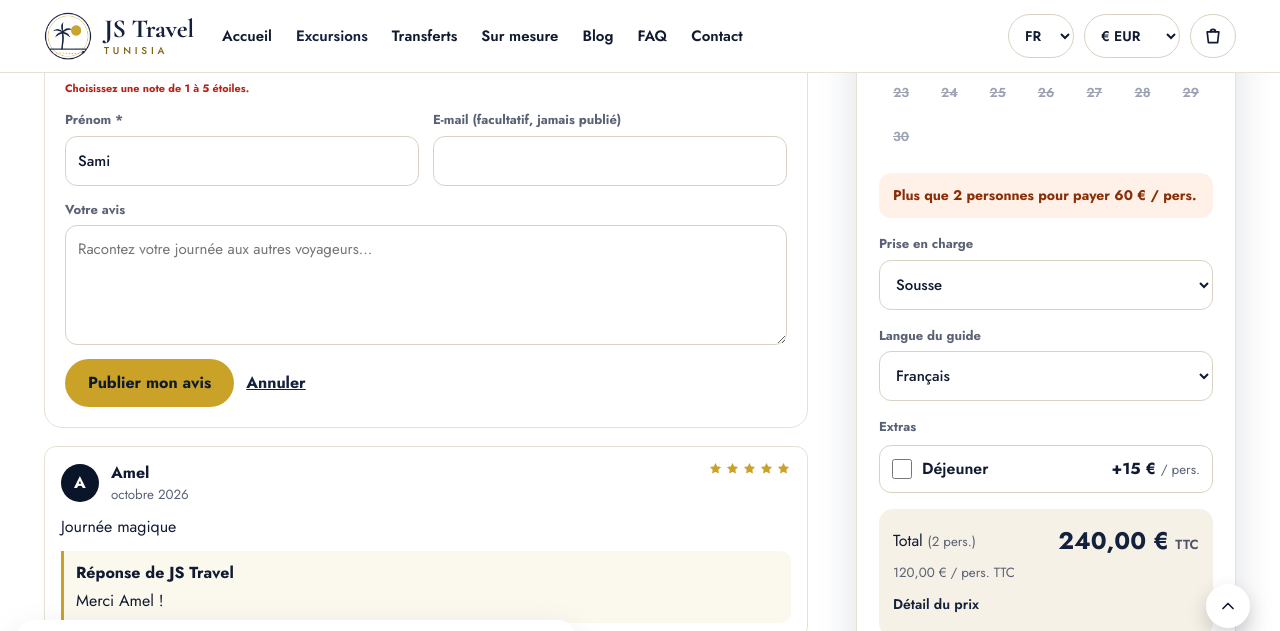
Test: site public › fiche excursion : avis publiés, note moyenne et formulaire à étoiles
The width and height of the screenshot is (1280, 631).
Earlier steps of the test are not shown.
(page scrolled)
Click the button "Publier mon avis". click: (150, 383)
box: [65,359,234,407]
(page scrolled)
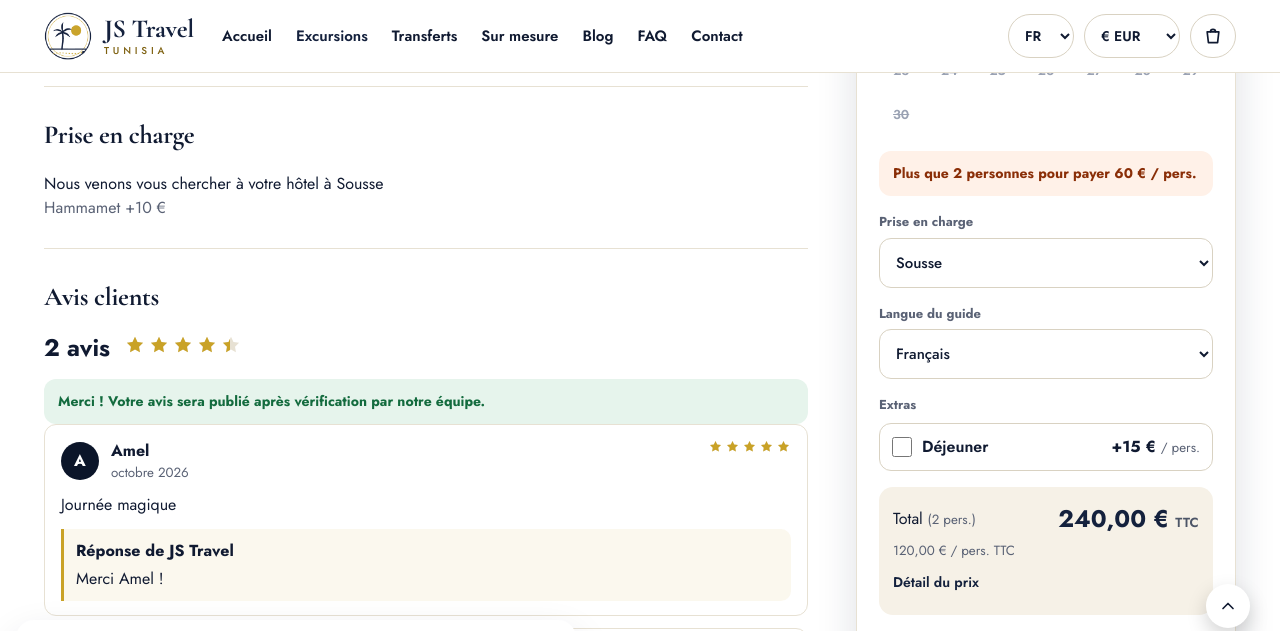
Expected: the text "Merci ! Votre avis sera publié après vérification par notre équipe." is shown, [44,379,808,424]
